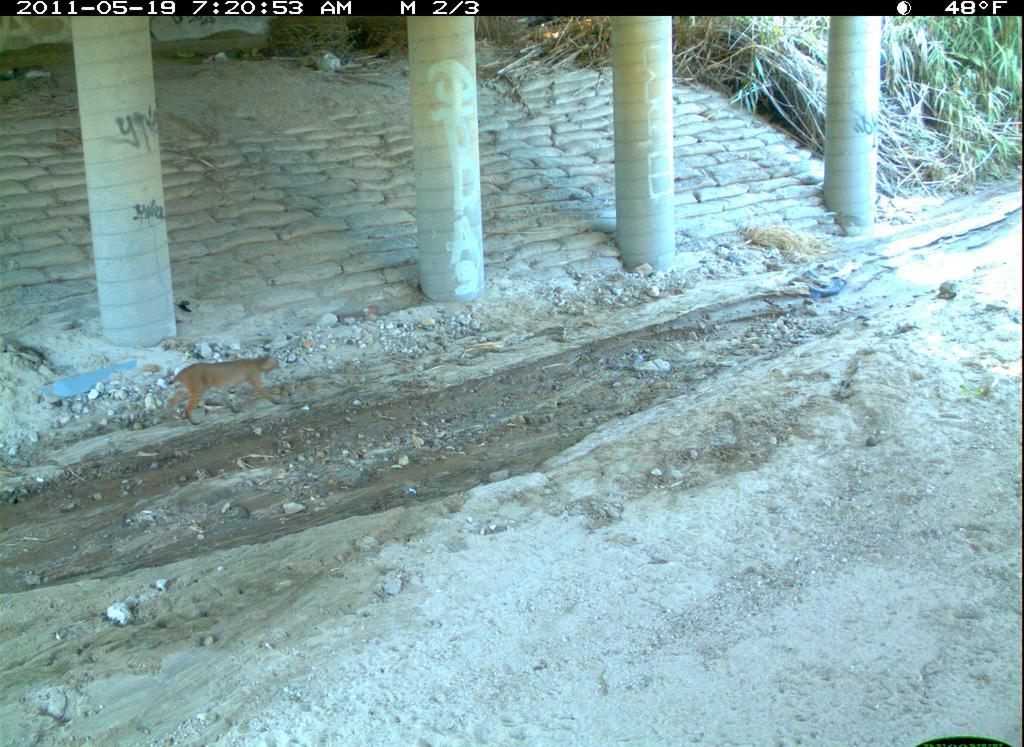bobcat: (323, 698, 579, 747)
